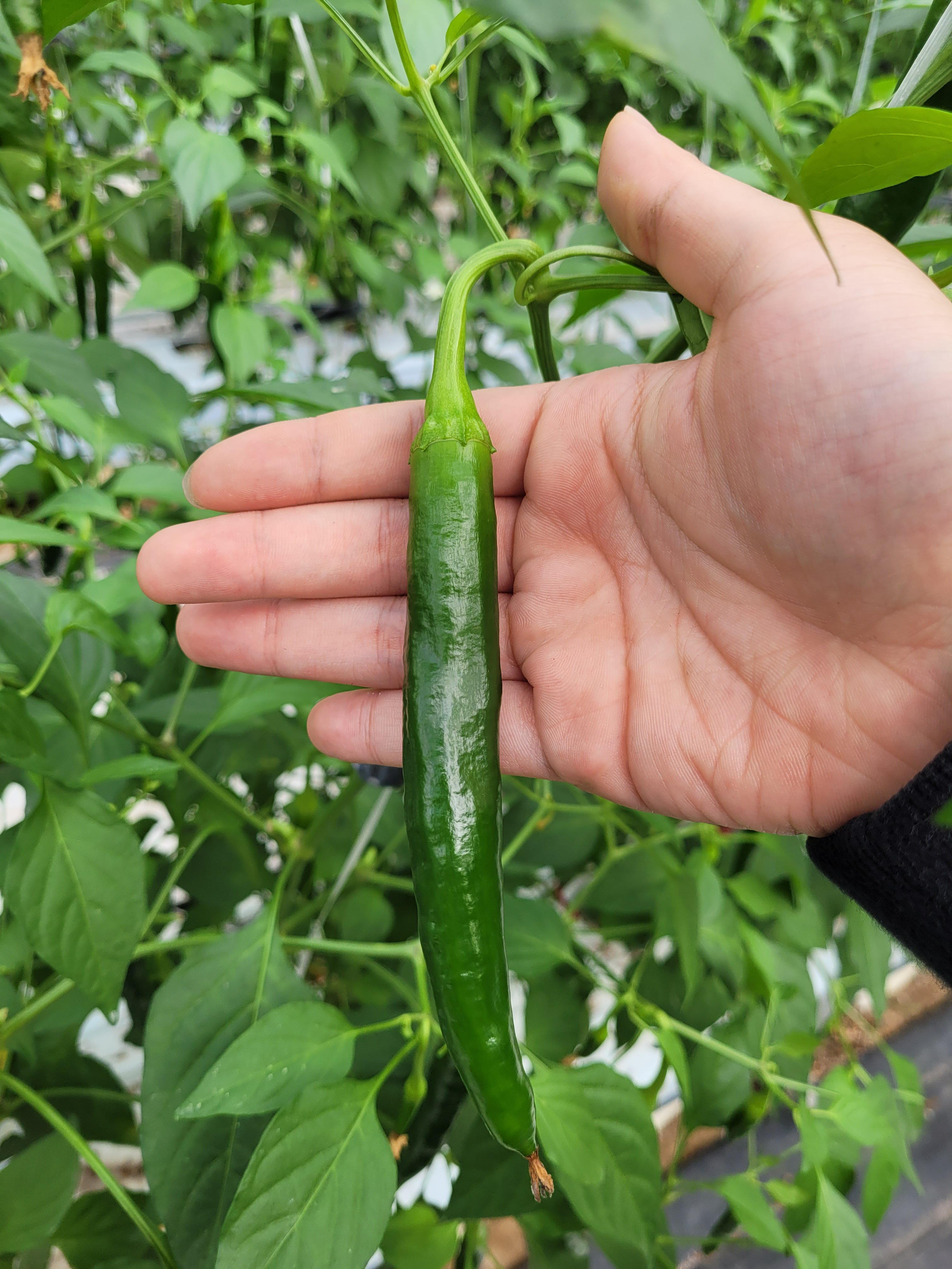Buah Cabai Sehat: (398, 361, 558, 1169)
